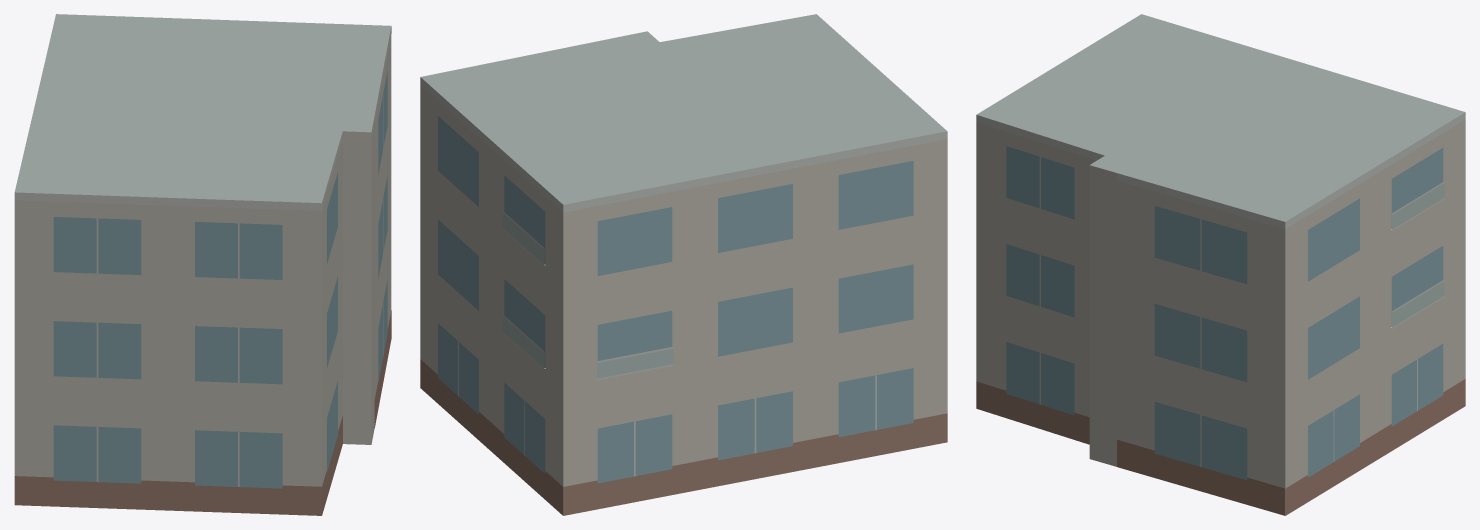
Rendered from survey-upis-32836784.glb.
The picture shows the model from 3 angles, left to right: view 1: azimuth 30°, elevation 25°; view 2: azimuth 150°, elevation 25°; view 3: azimuth 270°, elevation 25°; orthographic projection. The views are drawn at different scales.
Parts seen in each view (by area): view 1: survey-upis-32836784.tmp; view 2: survey-upis-32836784.tmp; view 3: survey-upis-32836784.tmp.
Boxes of the visible parts, left/top/right/bottom form: survey-upis-32836784.tmp: left=14, top=14, right=391, bottom=515; survey-upis-32836784.tmp: left=420, top=14, right=947, bottom=515; survey-upis-32836784.tmp: left=976, top=14, right=1465, bottom=515.
Bounding box in the file's own units: 14.88 × 9.8 × 14.79.
